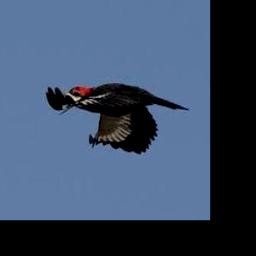Woodpecker: (46, 82, 190, 154)
